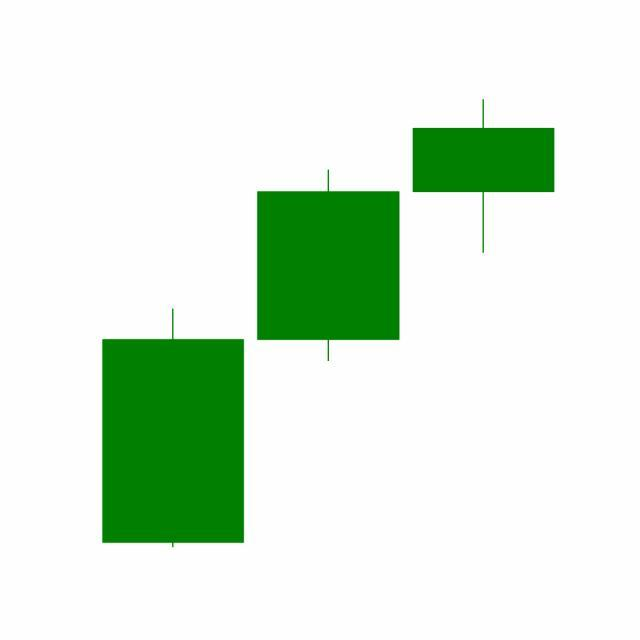Marubozu: (250, 167, 407, 364)
